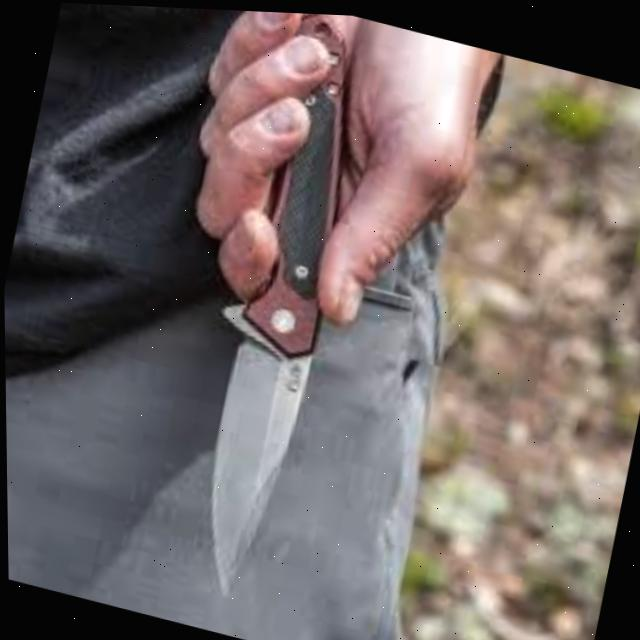knife: (0, 0, 530, 640), (157, 5, 390, 606), (176, 6, 495, 328)
